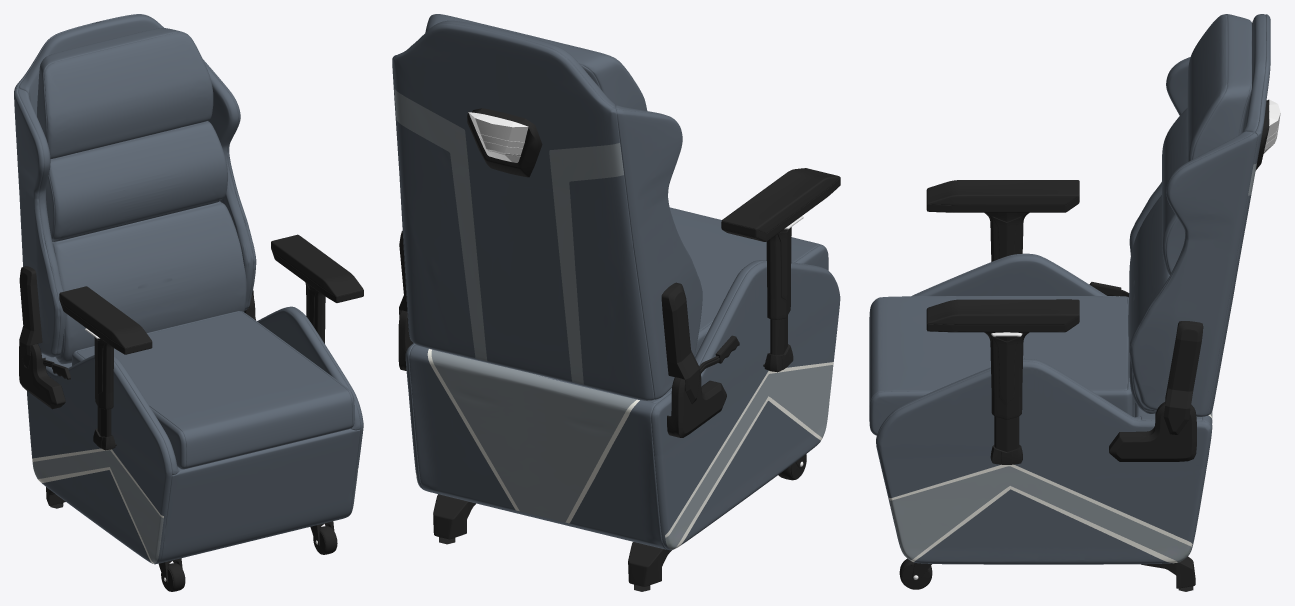
File: sofa5.glb
3 views of the same model, side by side, from view 1: azimuth 30°, elevation 25°; view 2: azimuth 150°, elevation 25°; view 3: azimuth 270°, elevation 25° (orthographic). The views are drawn at different scales.
Visible parts, largest first — view 1: main, armrest, accent, accent1; view 2: main, accent, armrest, armrest1, accent1; view 3: main, armrest, accent, accent1, armrest1.
Part boxes in pixels (bbox=[...]): main: bbox=[14, 14, 363, 564]; armrest: bbox=[19, 234, 363, 591]; accent: bbox=[32, 450, 357, 563]; accent1: bbox=[32, 448, 358, 563]; main: bbox=[392, 14, 840, 550]; accent: bbox=[394, 88, 833, 549]; armrest: bbox=[398, 168, 840, 591]; armrest1: bbox=[467, 108, 803, 466]; accent1: bbox=[415, 349, 833, 548]; main: bbox=[869, 14, 1270, 564]; armrest: bbox=[899, 180, 1203, 591]; accent: bbox=[890, 163, 1256, 562]; accent1: bbox=[889, 414, 1212, 563]; armrest1: bbox=[913, 99, 1280, 579].
Bounding box in the file's own units: 0.0821 × 0.1419 × 0.1038.
Materials: 4 (1 with a texture image).
